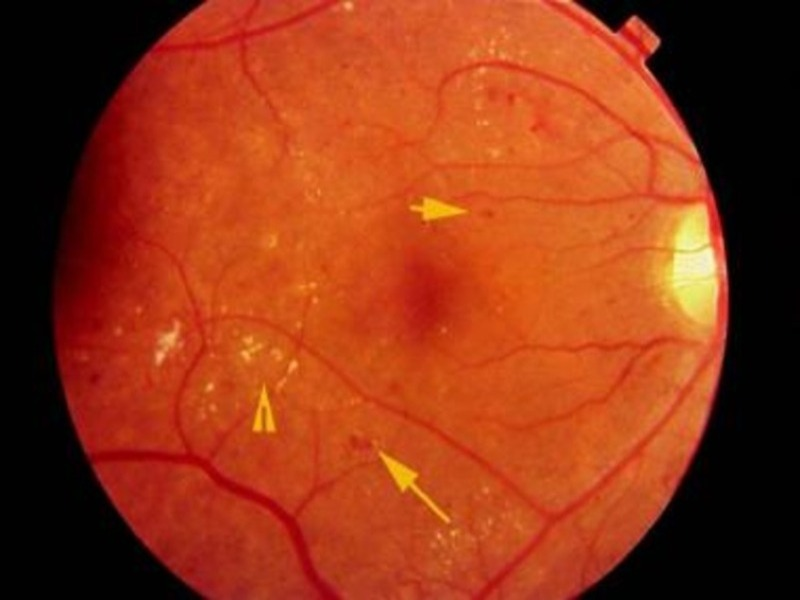Optic Cup: (694, 246, 727, 289)
Optic Disc: (675, 204, 727, 331)
